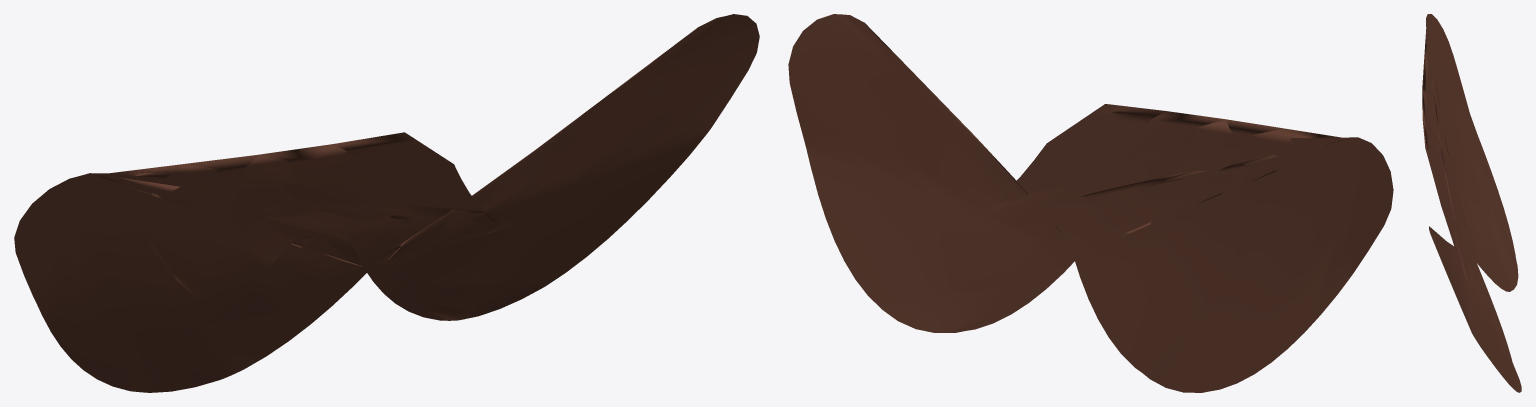
Rendered from mouth_cat.glb.
The picture shows the model from 3 angles, left to right: view 1: azimuth 30°, elevation 25°; view 2: azimuth 150°, elevation 25°; view 3: azimuth 270°, elevation 25°; orthographic projection. The views are drawn at different scales.
Parts seen in each view (by area): view 1: Cat_mouth_cat.001; view 2: Cat_mouth_cat.001; view 3: Cat_mouth_cat.001.
Part boxes in pixels (x1,y1,x2,y2): Cat_mouth_cat.001: (14,14,759,392); Cat_mouth_cat.001: (788,14,1393,392); Cat_mouth_cat.001: (1422,14,1521,392).
Size of the model in its own units: 0.0328 by 0.0128 by 0.00553.
